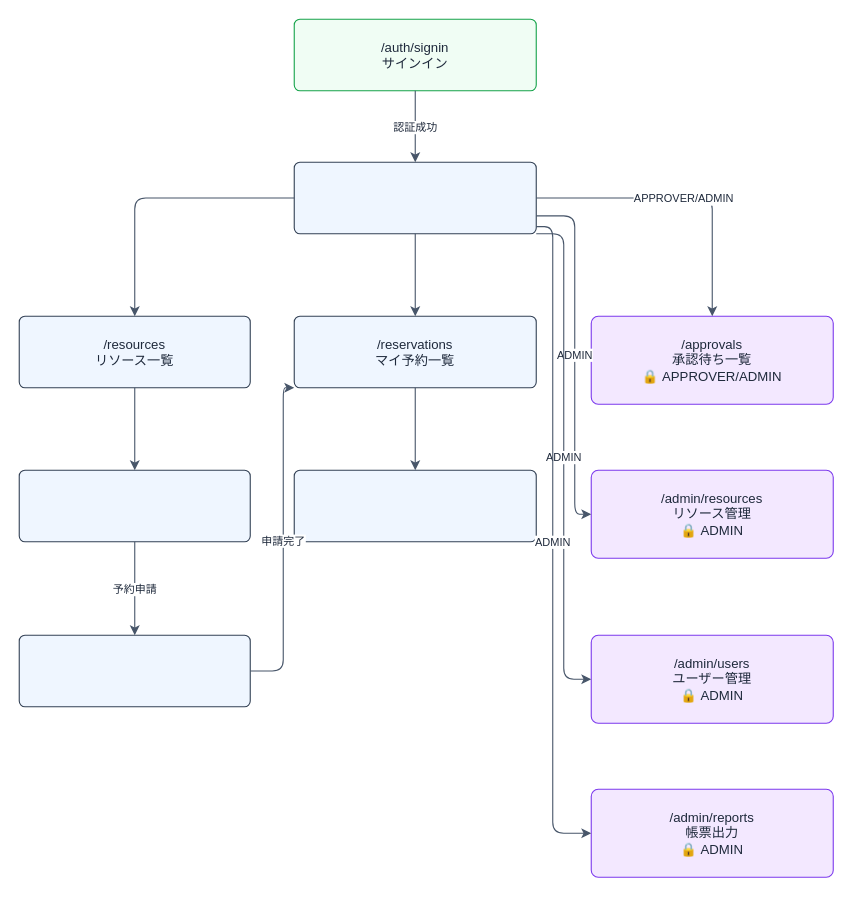
Some shapes in this 853 by 897 pixel diagram are drawn without their labels. The centre of each missing label's shape, as x and y in pixels:
"/ ダッシュボード" belongs at [414,197].
"/reservations/new 予約申請フォーム" belongs at [134,670].
"/reservations/{id} 予約詳細" belongs at [414,505].
"/resources/{id} リソース詳細" belongs at [134,505].
